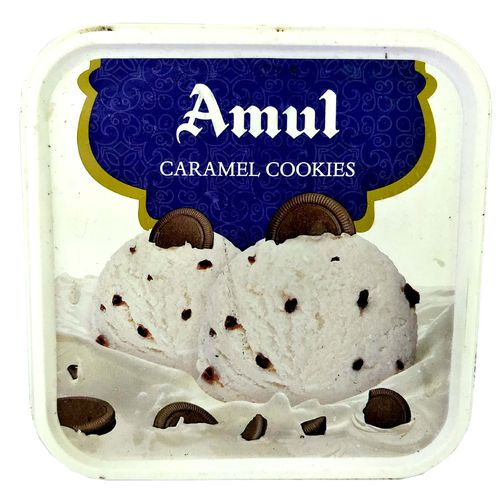Amul: (151, 78, 354, 152)
